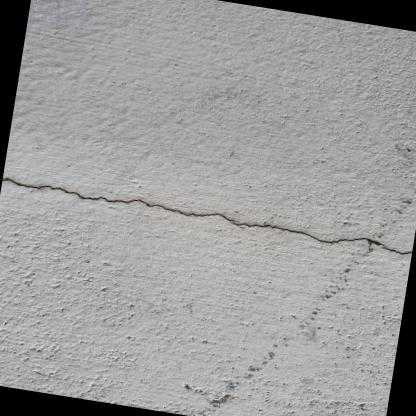crack: (2, 176, 412, 254)
